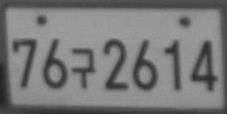1: (161, 39, 189, 91)
2: (102, 37, 129, 89)
4: (190, 39, 218, 92)
6: (41, 37, 68, 89), (132, 39, 158, 90)
7: (11, 37, 37, 87)
구: (71, 46, 97, 90)
